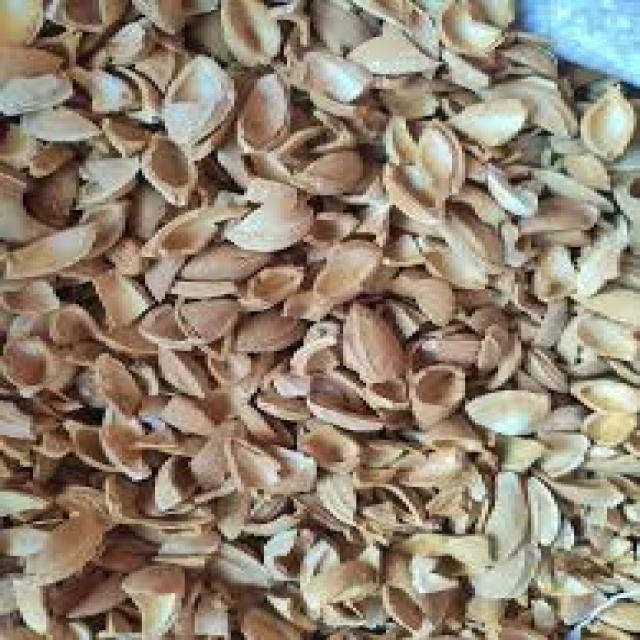cekirdek: (222, 193, 325, 255), (350, 309, 417, 396)
